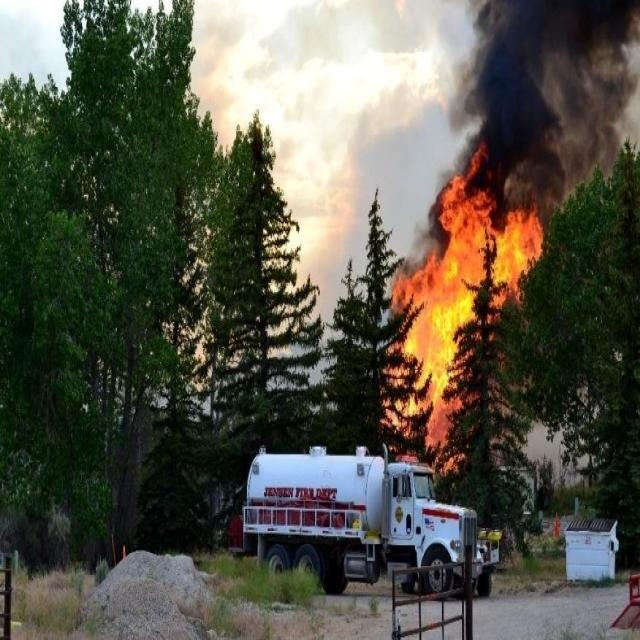Fire: (391, 154, 556, 449)
Smoke: (445, 0, 640, 185)
